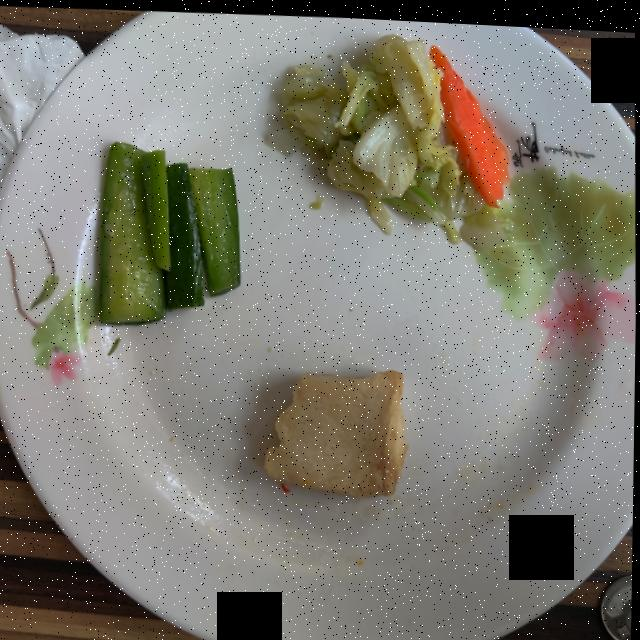cabbage: (266, 30, 510, 244)
coin: (601, 568, 634, 640)
creamy tofu -without sauce-: (265, 366, 408, 493)
cucumber: (99, 141, 239, 324)
